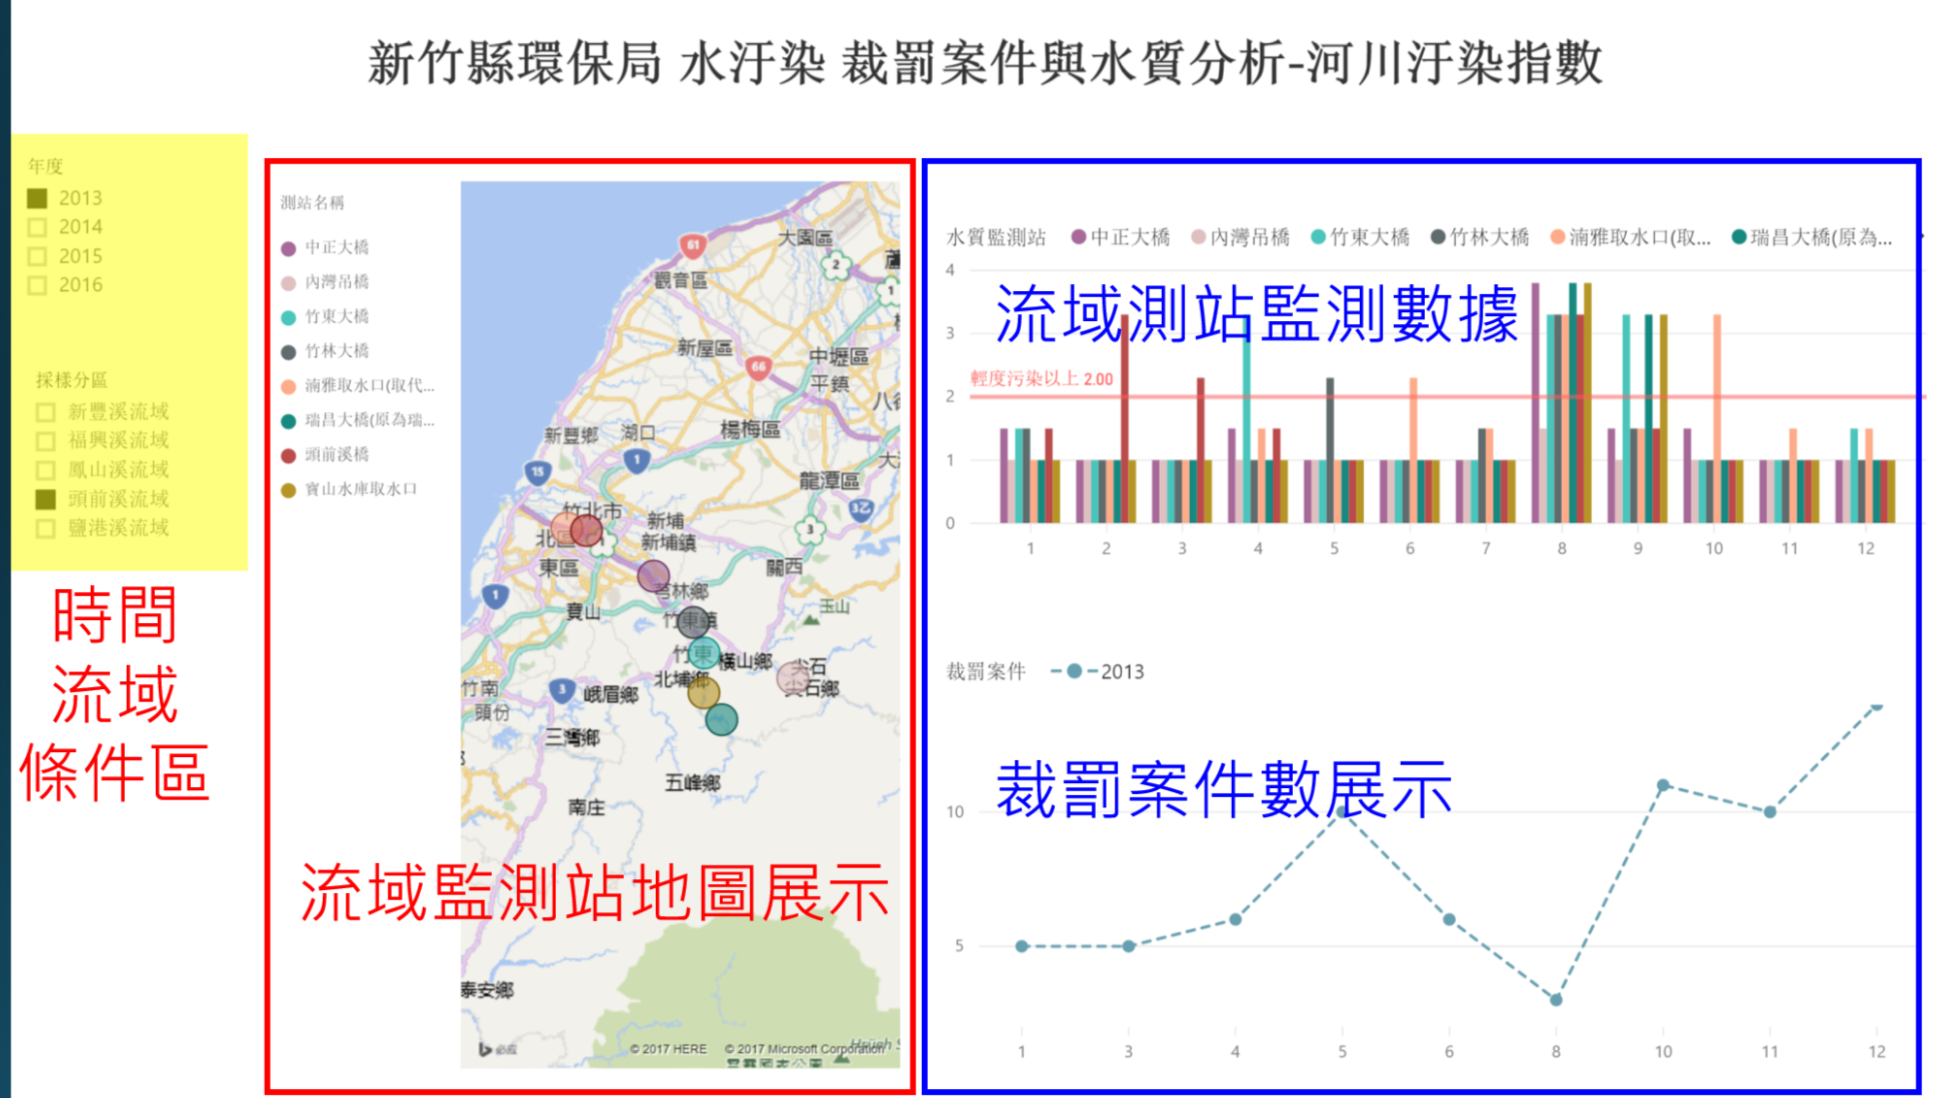

What the dashboard file says about the page in this screenshot:
{"tool":"powerbi","page":{"name":"2.2.2水汙染_裁罰案件水質分析-河川汙染指數","canvas":[1280,720],"ordinal":2},"visuals":[{"type":"slicer","fields":{"Values":["環保署_水質監測數據.採樣分區"]},"box":[5.9,222,119.9,424.7],"z":2},{"type":"textbox","box":[6.7,0,1271.9,63.4],"z":3},{"type":"slicer","fields":{"Values":["環保署_採樣年度.年度"]},"box":[0,81.4,177.6,119.9],"z":5},{"type":"map","fields":{"Series":["環保署_水質監測數據.測站名稱"],"Y":["環保署_水質監測數據.緯度(TWD97)"],"X":["環保署_水質監測數據.經度(TWD97)"]},"box":[169.2,100.6,422.5,608.3],"z":5},{"type":"clusteredColumnChart","fields":{"Category":["環保署_水質監測數據.採樣月"],"Series":["環保署_水質監測數據.測站名稱"],"Y":["Sum(環保署_水質監測數據.河川污染指數)"]},"box":[611.1,121.3,655.5,236.8],"z":6},{"type":"lineChart","fields":{"Category":["環保署_裁罰資料_水汙染.違反時間_月份"],"Y":["CountNonNull(環保署_裁罰資料_水汙染.列管狀況)"],"Series":["環保署_裁罰資料_水汙染.違反時間_年"]},"box":[611.1,406.9,651.1,282.6],"z":6}]}

Visuals, with their boxes in screenshot pixels (x1, y1, x2, y2), scaled from the page's 1280x720 canvas onto the 1940x1098 screenshot:
slicer - 環保署_水質監測數據.採樣分區: (left=9, top=339, right=191, bottom=986)
textbox: (left=10, top=0, right=1938, bottom=97)
slicer - 環保署_採樣年度.年度: (left=0, top=124, right=269, bottom=307)
map - 環保署_水質監測數據.測站名稱 x 環保署_水質監測數據.緯度(TWD97): (left=256, top=153, right=897, bottom=1081)
clusteredColumnChart - 環保署_水質監測數據.採樣月 x 環保署_水質監測數據.測站名稱: (left=926, top=185, right=1920, bottom=546)
lineChart - 環保署_裁罰資料_水汙染.違反時間_月份 x CountNonNull(環保署_裁罰資料_水汙染.列管狀況): (left=926, top=621, right=1913, bottom=1051)
